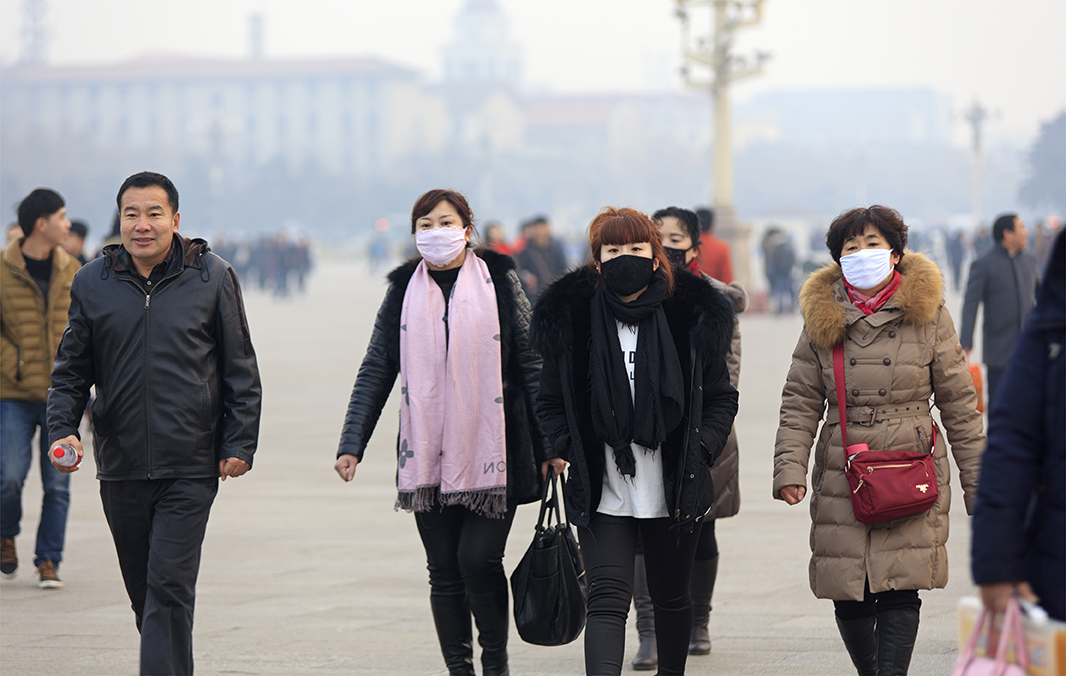person: (322, 179, 589, 676), (42, 164, 266, 676), (761, 196, 993, 676), (520, 197, 743, 675), (634, 197, 771, 498), (1, 178, 96, 596), (951, 208, 1055, 367)
